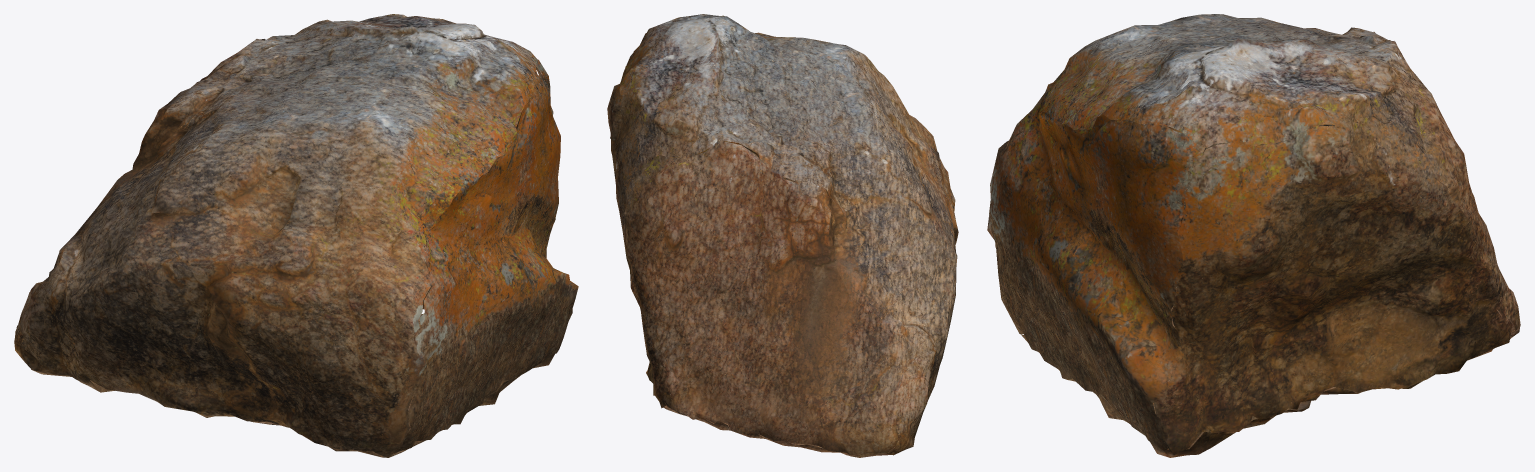
The model's file is boulder_a.glb.
The picture shows the model from 3 angles, left to right: view 1: azimuth 30°, elevation 25°; view 2: azimuth 150°, elevation 25°; view 3: azimuth 270°, elevation 25°; orthographic projection. The views are drawn at different scales.
Parts seen in each view (by area): view 1: boulder_04; view 2: boulder_04; view 3: boulder_04.
Part boxes in pixels (<box>): boulder_04: <box>14,14,578,457</box>; boulder_04: <box>607,14,958,457</box>; boulder_04: <box>987,14,1520,457</box>.
Bounding box in the file's own units: 2.52 × 1.9 × 2.49.
Materials: 1 (1 with a texture image).
